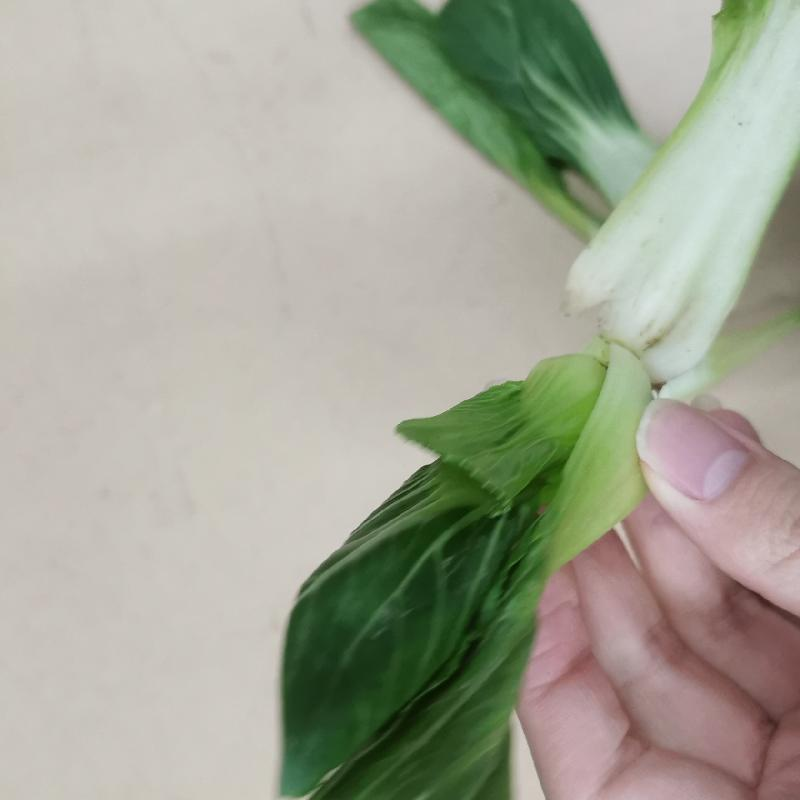green vegatable: (267, 346, 670, 800)
